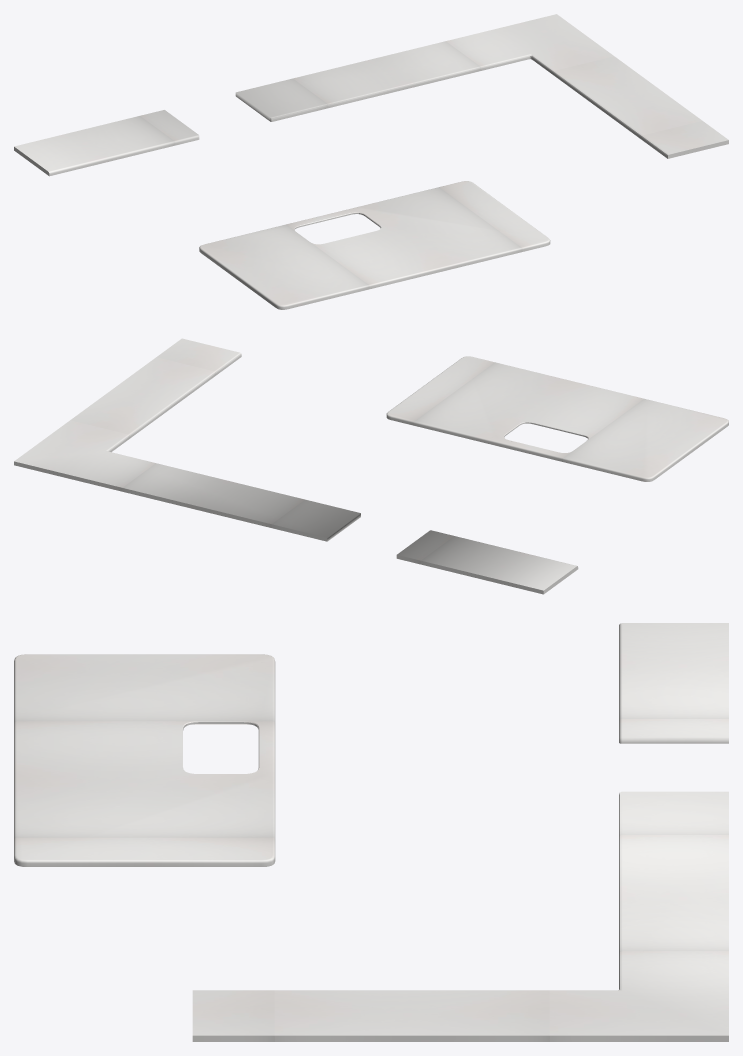
Rendered from 1989_kitchen_Countertops_QuartzArcticWhite.gltf.
3 renders of one model, top to bottom at view 1: azimuth 30°, elevation 25°; view 2: azimuth 150°, elevation 25°; view 3: azimuth 270°, elevation 25°, orthographic. The views are drawn at different scales.
Parts seen in each view (by area): view 1: Countertop_quartz_arctic_white.001; view 2: Countertop_quartz_arctic_white.001; view 3: Countertop_quartz_arctic_white.001.
Boxes of the visible parts, bbox=[...] form: Countertop_quartz_arctic_white.001: bbox=[14, 14, 728, 309]; Countertop_quartz_arctic_white.001: bbox=[14, 338, 728, 594]; Countertop_quartz_arctic_white.001: bbox=[14, 623, 728, 1041].
Size of the model in its own units: 7.1 by 0.07 by 5.2.
1 material, 1 textured.
